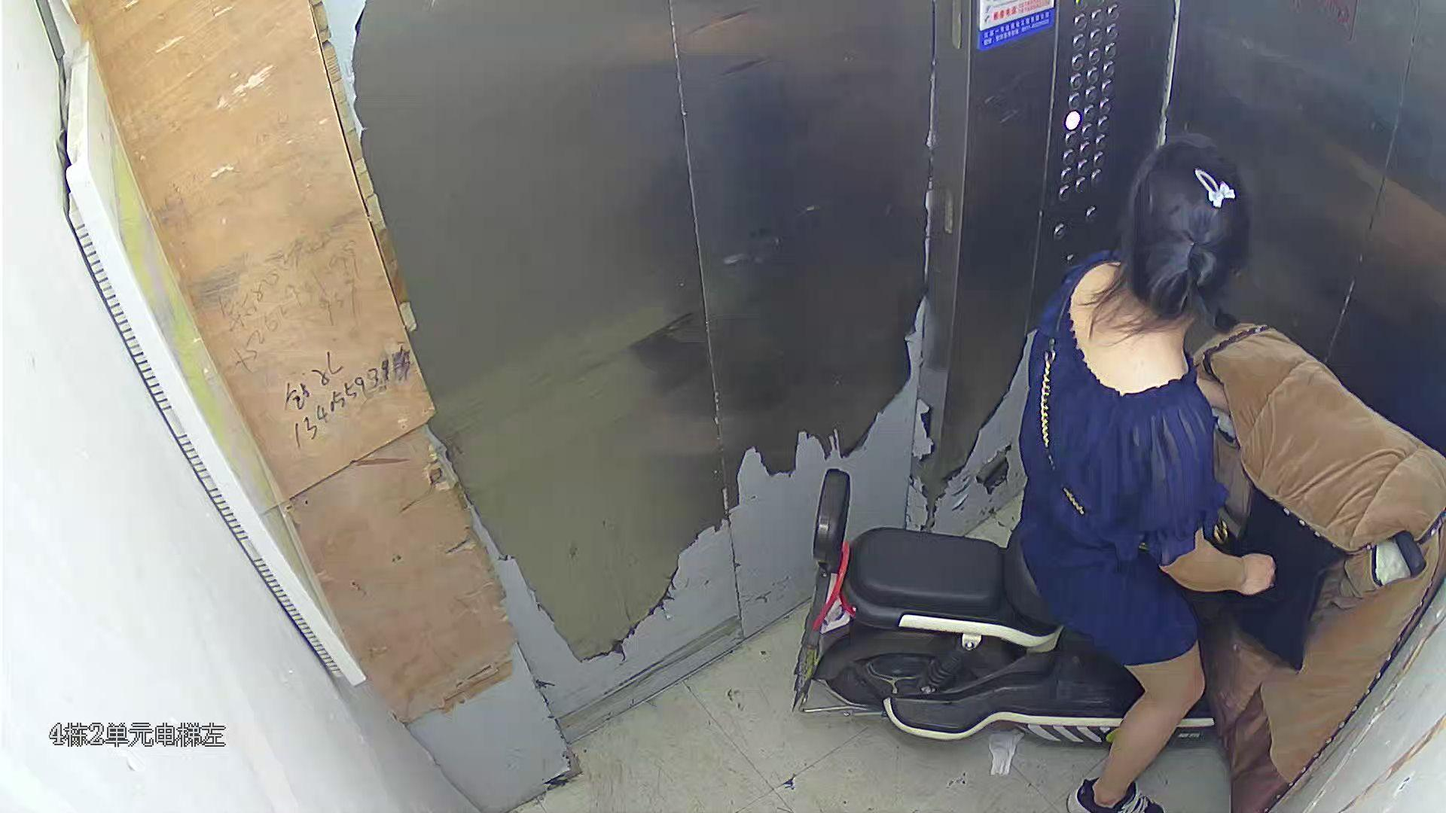Electric-bicycle: (809, 339, 1426, 738)
